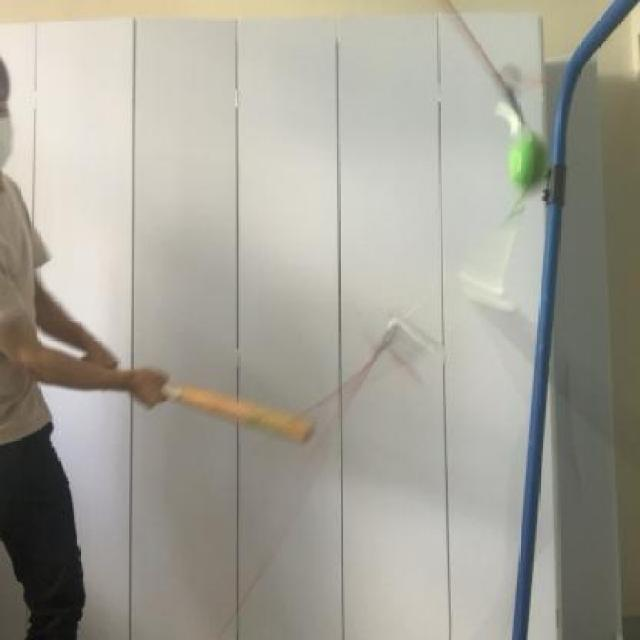baseball: (500, 108, 546, 201)
